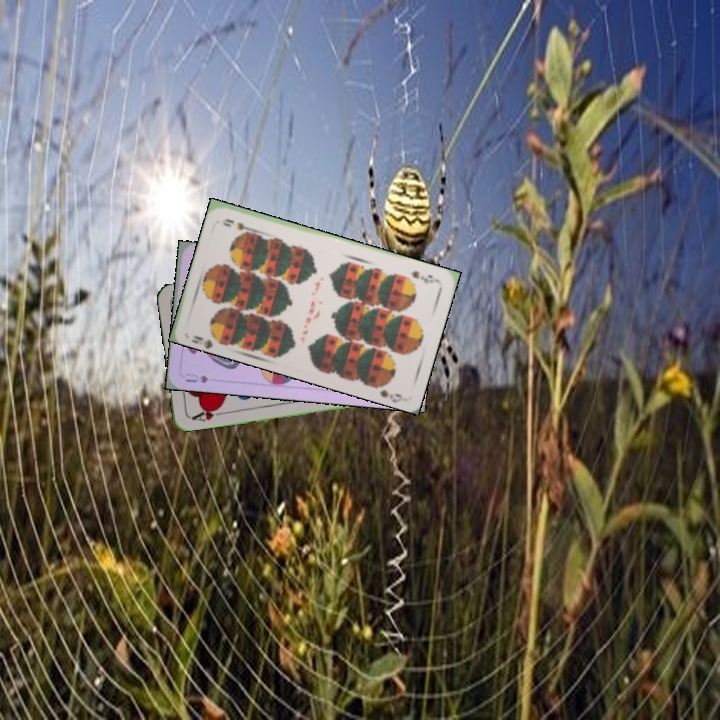HA: (187, 402, 228, 424)
S9: (188, 327, 225, 348), (407, 266, 441, 286)
SU: (181, 369, 211, 385)
